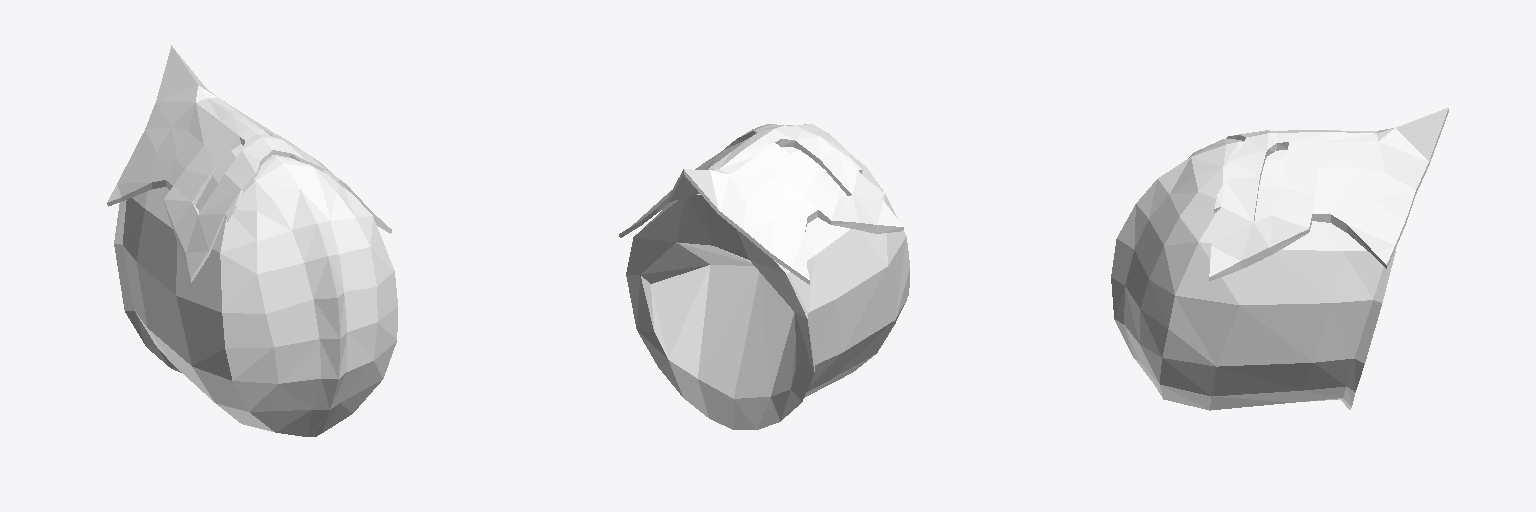
Rendered from dawnguard_helmet.obj.
3 views of the same model, side by side, from view 1: azimuth 30°, elevation 25°; view 2: azimuth 150°, elevation 25°; view 3: azimuth 270°, elevation 25° (orthographic).
Visible parts, largest first — view 1: HelmetFull_GND:0; view 2: HelmetFull_GND:0; view 3: HelmetFull_GND:0.
Boxes of the visible parts, x1,y1,x2,y2 form: HelmetFull_GND:0: [107, 45, 397, 436]; HelmetFull_GND:0: [619, 124, 909, 429]; HelmetFull_GND:0: [1111, 108, 1448, 410].
Bounding box in the file's own units: 15.08 × 21.3 × 21.95.